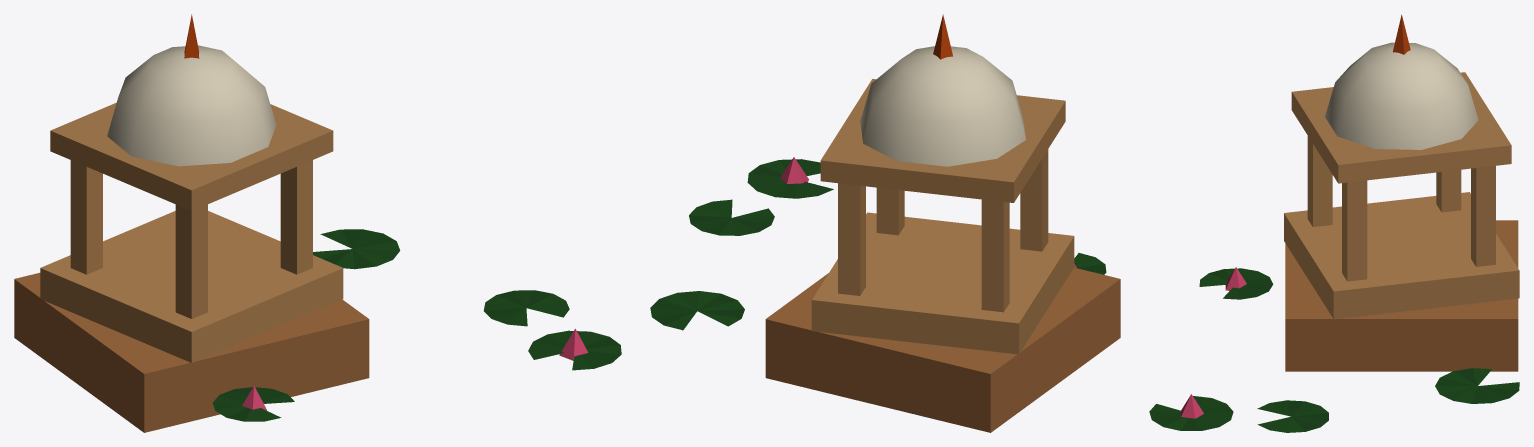
File: MODULE_STEPWELL_WATER_SHRINE.fbx
The picture shows the model from 3 angles, left to right: view 1: azimuth 30°, elevation 25°; view 2: azimuth 150°, elevation 25°; view 3: azimuth 270°, elevation 25°; orthographic projection. The views are drawn at different scales.
Visible parts, largest first — view 1: MODULE_STEPWELL_WATER_SHRINE_DECOR__export; view 2: MODULE_STEPWELL_WATER_SHRINE_DECOR__export; view 3: MODULE_STEPWELL_WATER_SHRINE_DECOR__export.
Boxes of the visible parts, left/top/right/bottom form: MODULE_STEPWELL_WATER_SHRINE_DECOR__export: left=14, top=14, right=621, bottom=432; MODULE_STEPWELL_WATER_SHRINE_DECOR__export: left=650, top=14, right=1120, bottom=432; MODULE_STEPWELL_WATER_SHRINE_DECOR__export: left=1149, top=14, right=1519, bottom=432.
Size of the model in its own units: 37.68 by 29.2 by 31.77.
